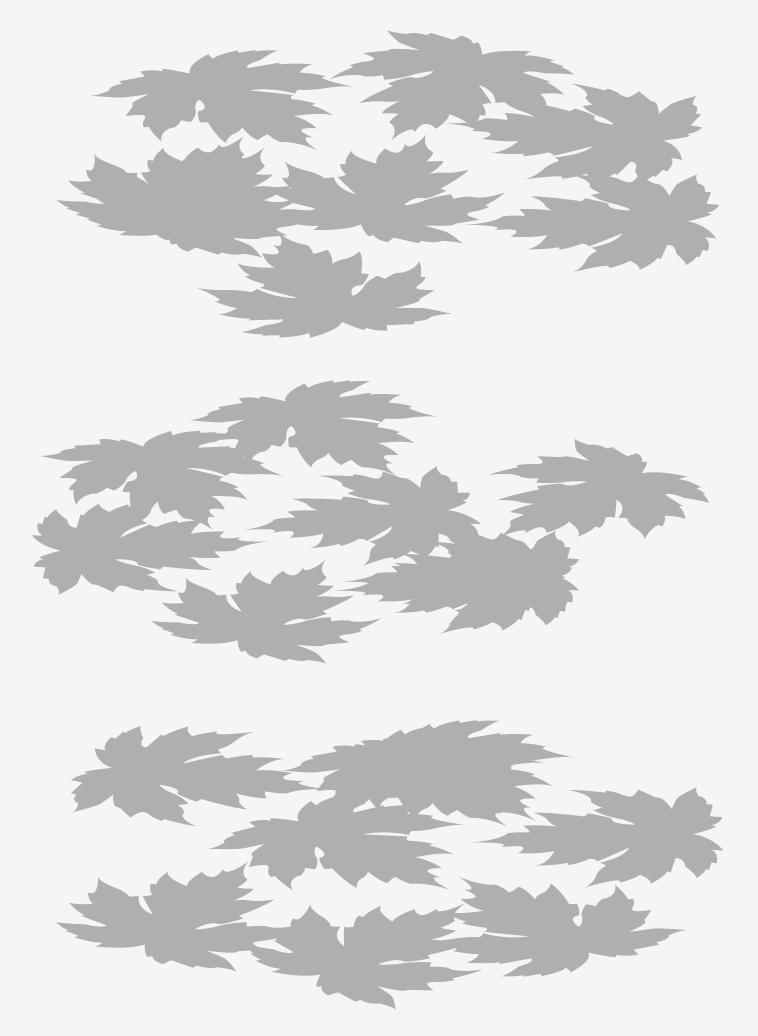
File: LeafErable.glb
3 renders of one model, top to bottom at view 1: azimuth 30°, elevation 25°; view 2: azimuth 150°, elevation 25°; view 3: azimuth 270°, elevation 25°, orthographic. The views are drawn at different scales.
Visible parts, largest first — view 1: LeafErable.006, LeafErable.004, LeafErable.003, LeafErable.001, LeafErable.008, LeafErable.002, LeafErable.007, LeafErable.005; view 2: LeafErable.006, LeafErable.003, LeafErable.004, LeafErable.001, LeafErable.008, LeafErable.007, LeafErable.002, LeafErable.005; view 3: LeafErable.006, LeafErable.004, LeafErable.001, LeafErable.003, LeafErable.008, LeafErable.007, LeafErable.002, LeafErable.005.
Part boxes in pixels (x1,y1,x2,y2): LeafErable.006: [92, 50, 352, 150]; LeafErable.004: [57, 136, 300, 246]; LeafErable.003: [446, 83, 701, 183]; LeafErable.001: [197, 235, 450, 337]; LeafErable.008: [268, 135, 504, 243]; LeafErable.002: [466, 174, 718, 271]; LeafErable.007: [330, 30, 573, 140]; LeafErable.005: [87, 148, 296, 257]; LeafErable.006: [152, 560, 380, 663]; LeafErable.003: [41, 430, 282, 529]; LeafErable.004: [335, 540, 571, 633]; LeafErable.001: [489, 439, 708, 539]; LeafErable.008: [245, 466, 480, 565]; LeafErable.007: [31, 501, 268, 594]; LeafErable.002: [190, 380, 436, 475]; LeafErable.005: [344, 531, 578, 624]; LeafErable.006: [472, 787, 723, 887]; LeafErable.004: [312, 720, 572, 820]; LeafErable.001: [71, 726, 318, 826]; LeafErable.003: [246, 903, 481, 1009]; LeafErable.008: [208, 794, 464, 889]; LeafErable.007: [441, 877, 685, 976]; LeafErable.002: [56, 862, 290, 971]; LeafErable.005: [283, 728, 543, 826].
Size of what is drawn, in the model's own units: 0.4143 by 0.00149 by 0.4058.
1 material, 1 textured.
